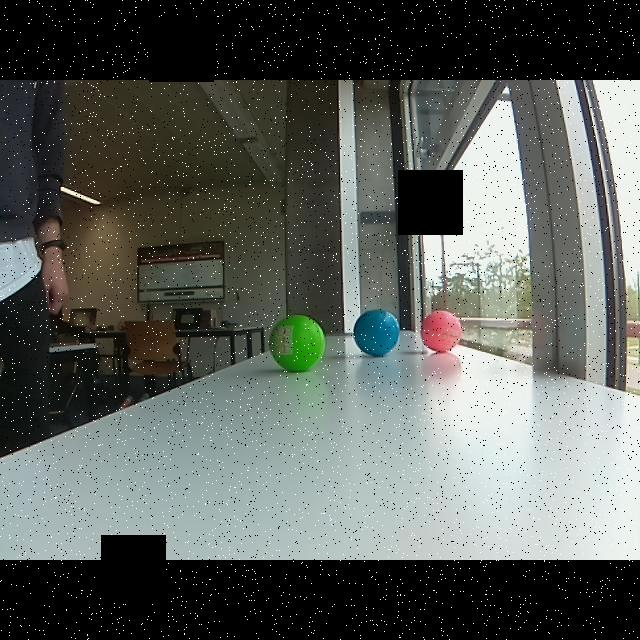ball: (270, 314, 326, 372), (351, 305, 402, 360), (418, 308, 464, 355)
